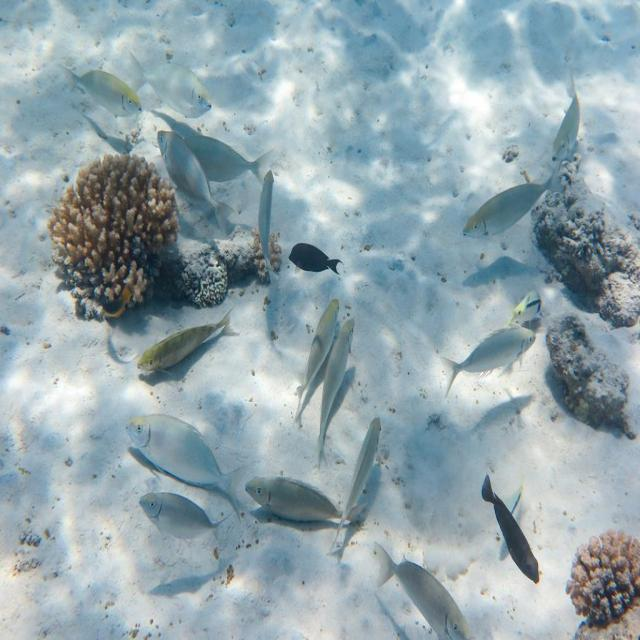Sokar Baligi: (458, 144, 572, 267), (122, 408, 249, 518), (126, 296, 243, 396), (235, 468, 349, 544), (54, 46, 144, 126)
